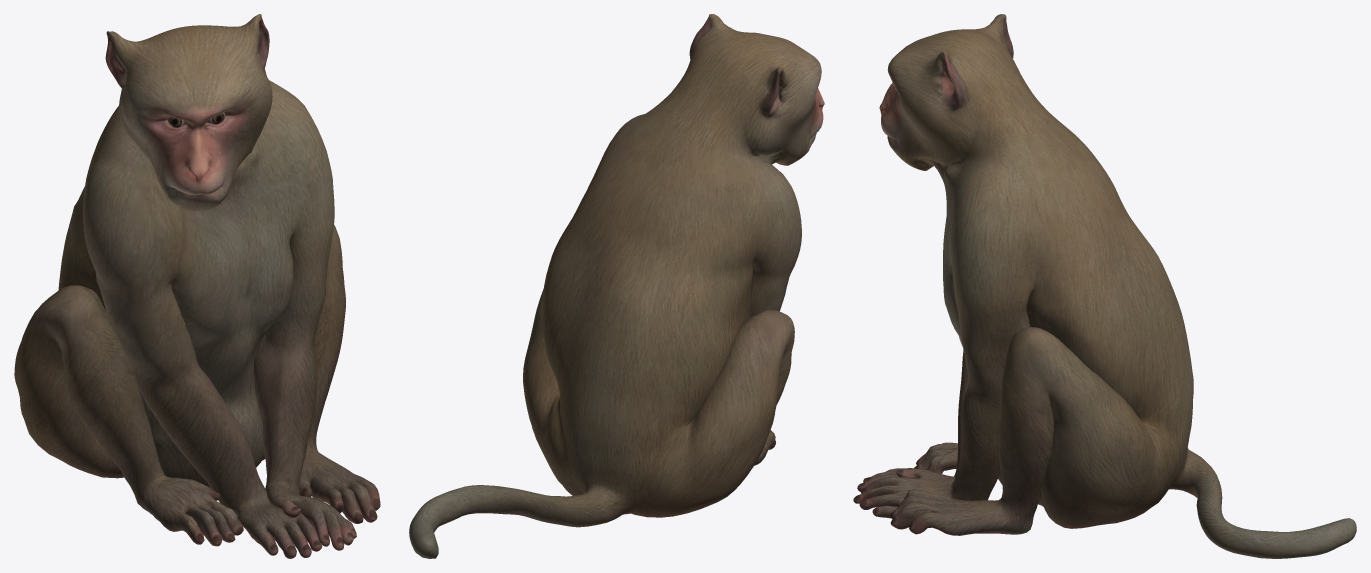
Rendered from macaque_caged.glb.
3 renders of one model, left to right at view 1: azimuth 30°, elevation 25°; view 2: azimuth 150°, elevation 25°; view 3: azimuth 270°, elevation 25°, orthographic. The views are drawn at different scales.
Visible parts, largest first — view 1: Object_5; view 2: Object_5; view 3: Object_5.
Part boxes in pixels (left/top/right/bottom): Object_5: left=14, top=14, right=380, bottom=558; Object_5: left=409, top=14, right=824, bottom=558; Object_5: left=853, top=14, right=1356, bottom=558.
Bounding box in the file's own units: 0.3263 × 0.512 × 0.5203.
Materials: 1 (1 with a texture image).
